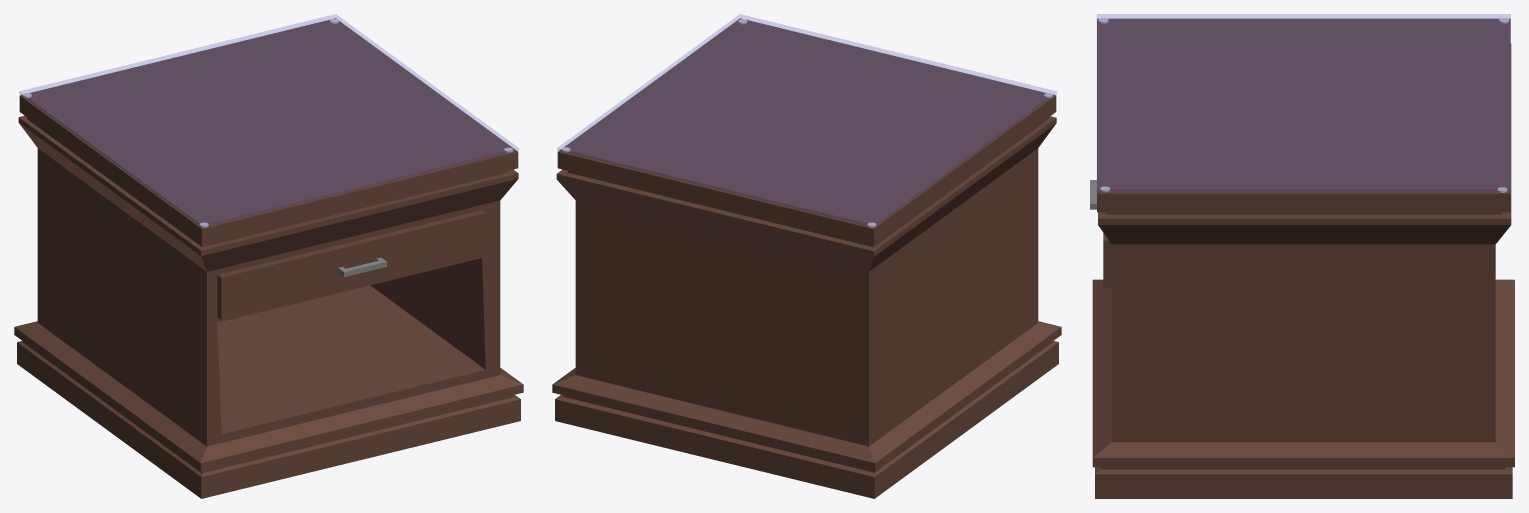
Rendered from Vintage Corner Table.glb.
The picture shows the model from 3 angles, left to right: view 1: azimuth 30°, elevation 25°; view 2: azimuth 150°, elevation 25°; view 3: azimuth 270°, elevation 25°; orthographic projection. The views are drawn at different scales.
Parts seen in each view (by area): view 1: node_MeshObject654577344-PolyPaper20, node_MeshObject1173297408-PolyGlass24; view 2: node_MeshObject654577344-PolyPaper20, node_MeshObject1173297408-PolyGlass24; view 3: node_MeshObject654577344-PolyPaper20, node_MeshObject1173297408-PolyGlass24.
Boxes of the visible parts, left/top/right/bottom form: node_MeshObject654577344-PolyPaper20: left=14, top=18, right=523, bottom=498; node_MeshObject1173297408-PolyGlass24: left=19, top=14, right=518, bottom=227; node_MeshObject654577344-PolyPaper20: left=552, top=18, right=1061, bottom=498; node_MeshObject1173297408-PolyGlass24: left=557, top=14, right=1056, bottom=227; node_MeshObject654577344-PolyPaper20: left=1090, top=18, right=1514, bottom=498; node_MeshObject1173297408-PolyGlass24: left=1097, top=14, right=1510, bottom=191.
Size of the model in its own units: 2.47 by 2 by 2.49.
